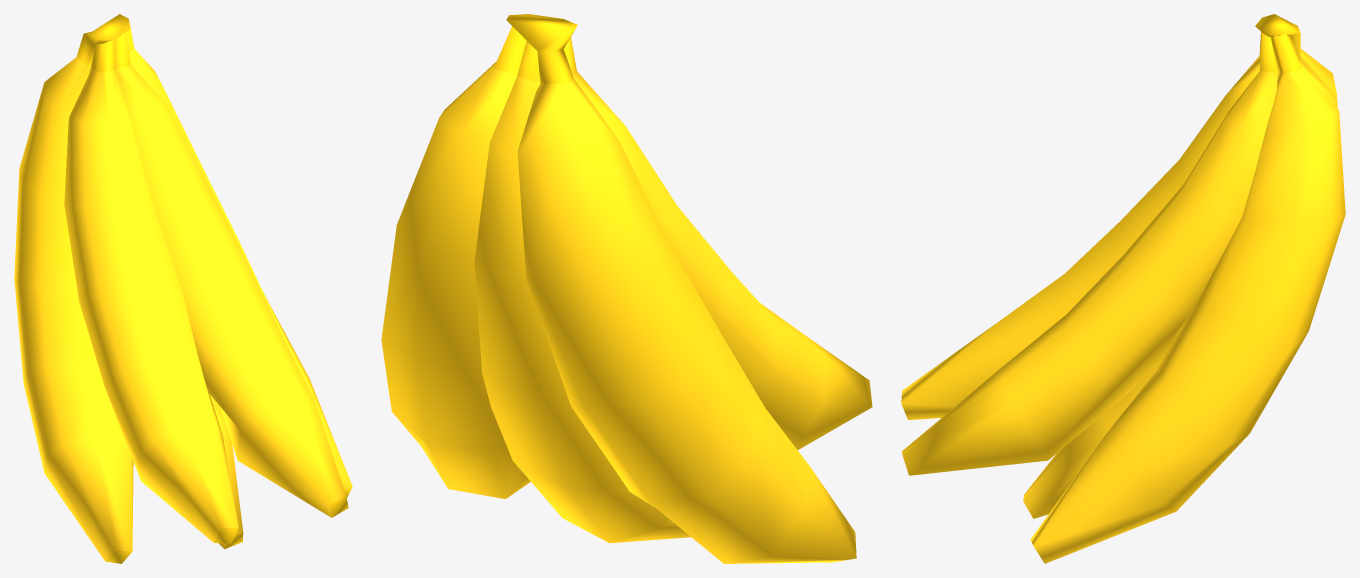
Rendered from BananaBunchGold.glb.
3 renders of one model, left to right at view 1: azimuth 30°, elevation 25°; view 2: azimuth 150°, elevation 25°; view 3: azimuth 270°, elevation 25°, orthographic. The views are drawn at different scales.
Parts seen in each view (by area): view 1: BananaBunchGold; view 2: BananaBunchGold; view 3: BananaBunchGold.
Boxes of the visible parts, <box> form: BananaBunchGold: <box>14,14,352,563</box>; BananaBunchGold: <box>381,14,872,563</box>; BananaBunchGold: <box>901,14,1345,563</box>.
Size of the model in its own units: 0.2257 by 0.368 by 0.3025.
1 material, 1 textured.
